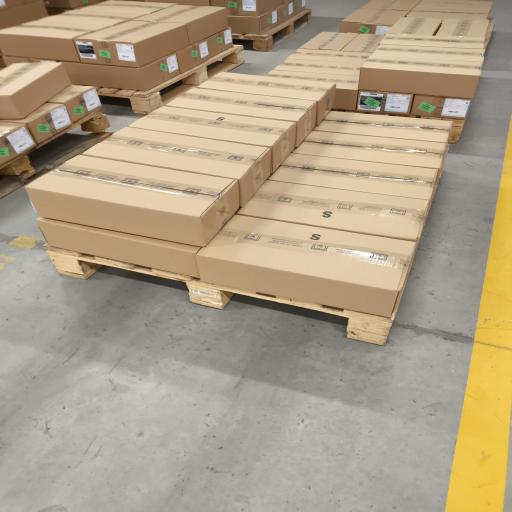pallet: (45, 245, 399, 345), (187, 281, 395, 345), (97, 45, 244, 114), (0, 110, 111, 197), (45, 245, 193, 282), (233, 9, 311, 51), (389, 114, 464, 143), (441, 118, 464, 143), (485, 19, 495, 48)
